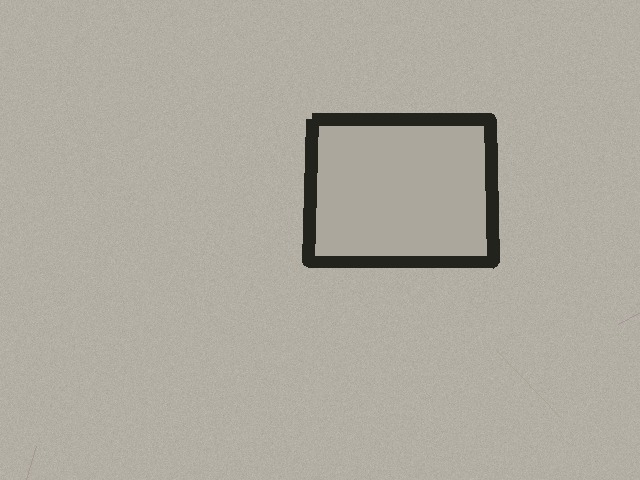parking_area: (308, 119, 493, 262)
